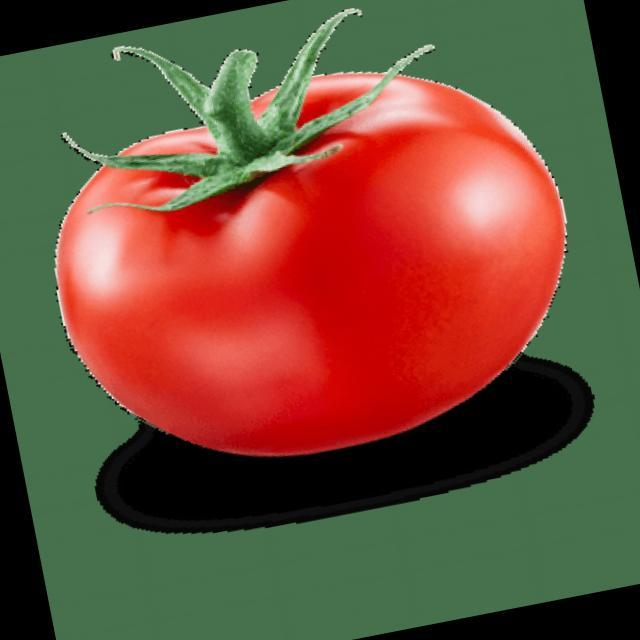TOMATO: (29, 39, 598, 497)
